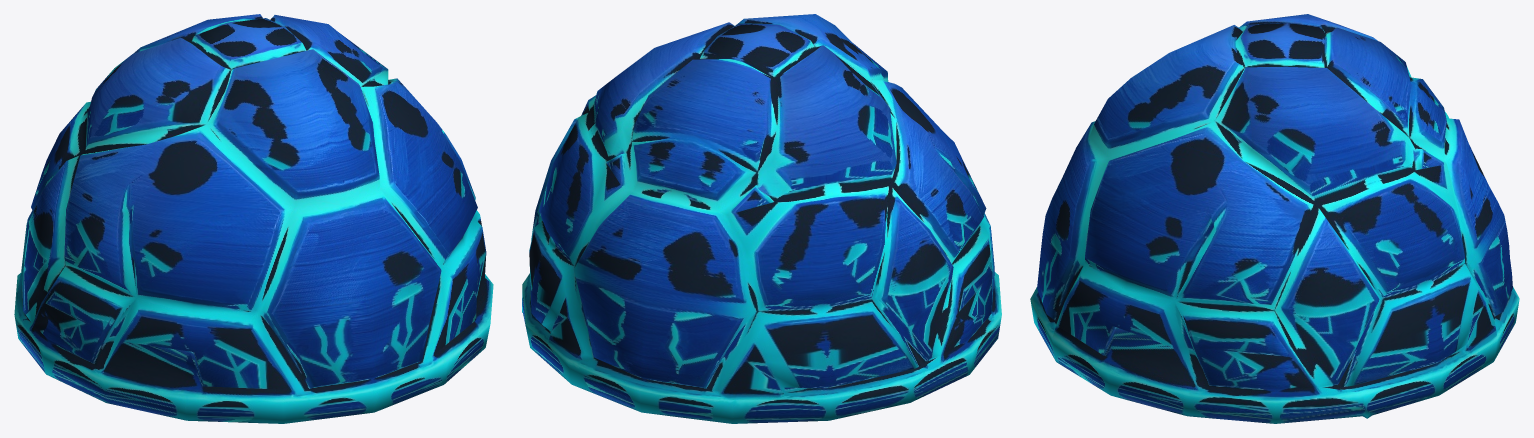
The model's file is LL_ShieldPickup.fbx.
3 views of the same model, side by side, from view 1: azimuth 30°, elevation 25°; view 2: azimuth 150°, elevation 25°; view 3: azimuth 270°, elevation 25° (orthographic).
Parts seen in each view (by area): view 1: tripo_node_5a92140c; view 2: tripo_node_5a92140c; view 3: tripo_node_5a92140c.
Boxes of the visible parts, left/top/right/bottom form: tripo_node_5a92140c: left=14, top=14, right=493, bottom=423; tripo_node_5a92140c: left=522, top=14, right=1001, bottom=423; tripo_node_5a92140c: left=1030, top=14, right=1519, bottom=423.
Size of the model in its own units: 97.12 by 97.89 by 64.94.
Materials: 1 (1 with a texture image).
